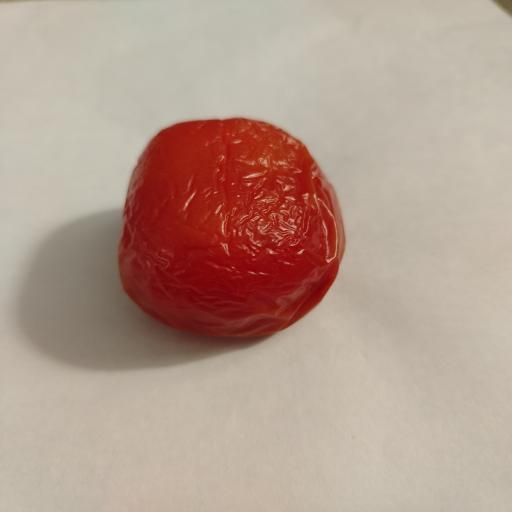spoiled: (118, 118, 344, 336)
